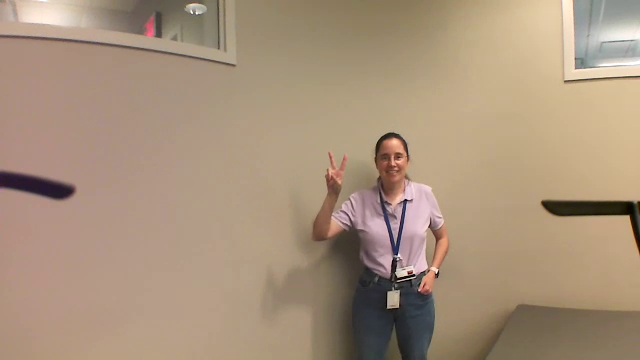peace: (323, 147, 352, 192)
